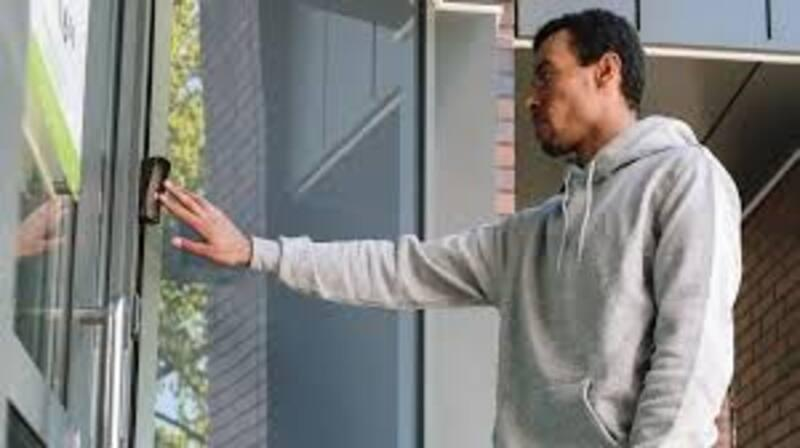doorbell: (141, 147, 176, 233)
